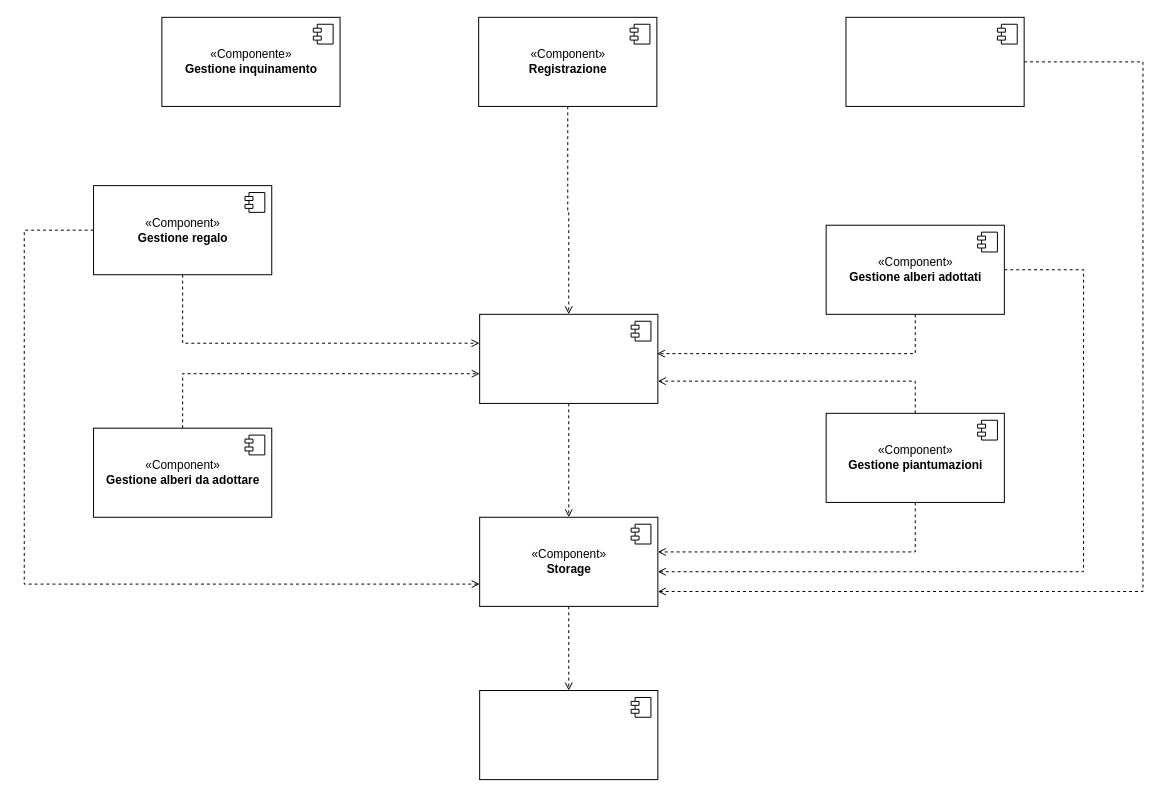
This 1168x797 diagram has some shape labels left out. Here are the shapes that lost their labels. From the top down, the centre of each, then its label:
At (934,61): "«Componente» Calcolo CO2".
At (568,358): "«Component» Autenticazione".
At (568,735): "«Component» Persistenza".
